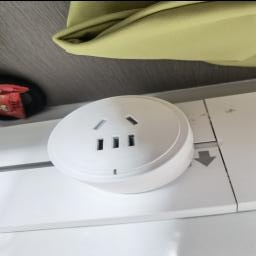outlet: (41, 91, 209, 199)
